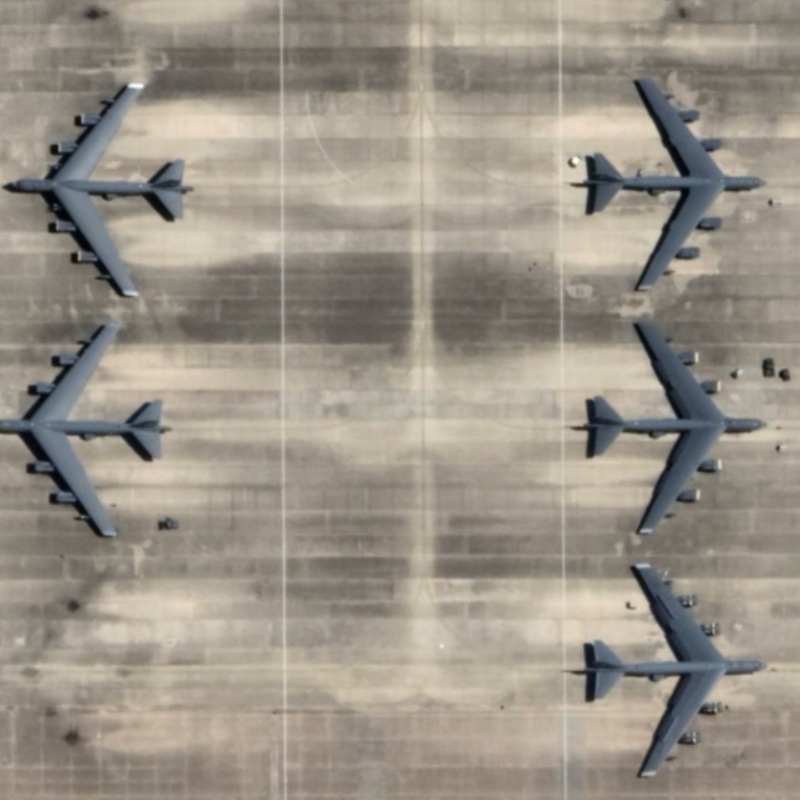A8: (563, 315, 775, 540), (566, 69, 774, 295), (575, 554, 770, 786), (4, 78, 199, 300), (2, 320, 182, 543)
